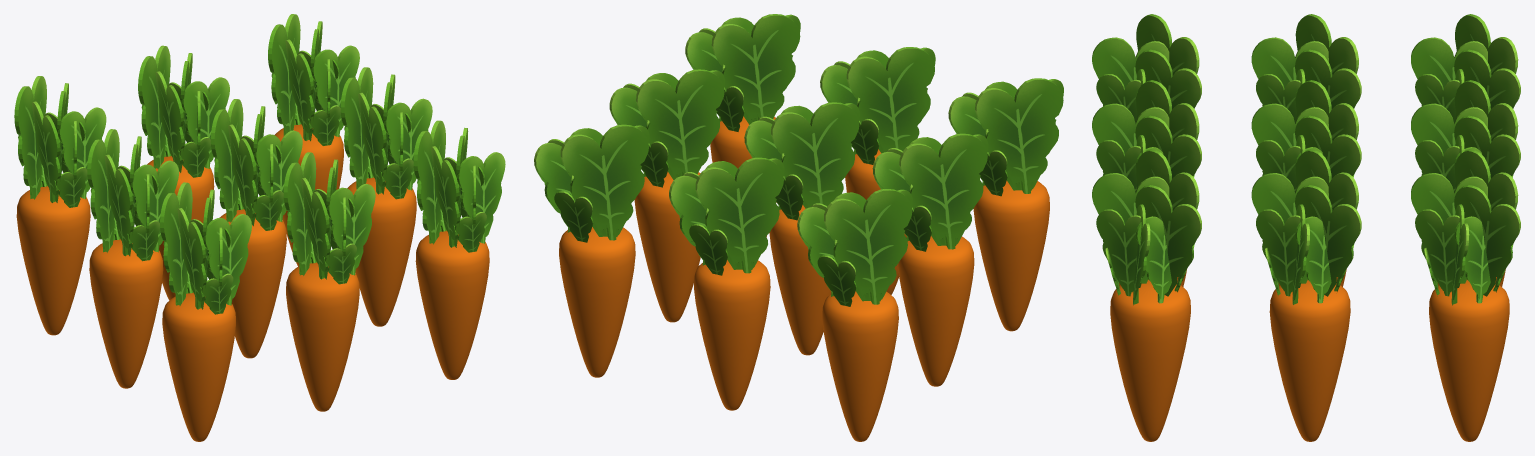
File: Carrot Field.fbx
3 views of the same model, side by side, from view 1: azimuth 30°, elevation 25°; view 2: azimuth 150°, elevation 25°; view 3: azimuth 270°, elevation 25° (orthographic). The views are drawn at different scales.
Visible parts, largest first — view 1: Untitled_Artwork 18.003, Untitled_Artwork 18.007, Untitled_Artwork 18.006, Untitled_Artwork 18.001, Untitled_Artwork 18.002, Untitled_Artwork 18.008, Untitled_Artwork 18.004, Untitled_Artwork 18.009, Untitled_Artwork 18.005; view 2: Untitled_Artwork 18.002, Untitled_Artwork 18.009, Untitled_Artwork 18.005, Untitled_Artwork 18.007, Untitled_Artwork 18.001, Untitled_Artwork 18.008, Untitled_Artwork 18.004, Untitled_Artwork 18.006, Untitled_Artwork 18.003; view 3: Untitled_Artwork 18.008, Untitled_Artwork 18.006, Untitled_Artwork 18.009, Untitled_Artwork 18.004, Untitled_Artwork 18.003, Untitled_Artwork 18.005, Untitled_Artwork 18.007, Untitled_Artwork 18.001, Untitled_Artwork 18.002.
Boxes of the visible parts, left/top/right/bottom form: Untitled_Artwork 18.003: left=283, top=152, right=375, bottom=411; Untitled_Artwork 18.007: left=160, top=182, right=251, bottom=441; Untitled_Artwork 18.006: left=413, top=120, right=505, bottom=379; Untitled_Artwork 18.001: left=87, top=129, right=178, bottom=388; Untitled_Artwork 18.002: left=14, top=76, right=106, bottom=335; Untitled_Artwork 18.008: left=340, top=67, right=432, bottom=326; Untitled_Artwork 18.004: left=210, top=99, right=302, bottom=358; Untitled_Artwork 18.009: left=268, top=14, right=359, bottom=266; Untitled_Artwork 18.005: left=138, top=45, right=229, bottom=300; Untitled_Artwork 18.002: left=797, top=189, right=912, bottom=441; Untitled_Artwork 18.009: left=534, top=124, right=649, bottom=377; Untitled_Artwork 18.005: left=669, top=157, right=784, bottom=410; Untitled_Artwork 18.007: left=948, top=78, right=1063, bottom=331; Untitled_Artwork 18.001: left=872, top=133, right=988, bottom=386; Untitled_Artwork 18.008: left=609, top=69, right=724, bottom=322; Untitled_Artwork 18.004: left=744, top=102, right=859, bottom=355; Untitled_Artwork 18.006: left=685, top=14, right=800, bottom=237; Untitled_Artwork 18.003: left=820, top=47, right=935, bottom=294; Untitled_Artwork 18.008: left=1251, top=149, right=1361, bottom=441; Untitled_Artwork 18.006: left=1092, top=149, right=1201, bottom=441; Untitled_Artwork 18.009: left=1411, top=149, right=1520, bottom=441; Untitled_Artwork 18.004: left=1251, top=80, right=1361, bottom=286; Untitled_Artwork 18.003: left=1092, top=80, right=1201, bottom=286; Untitled_Artwork 18.005: left=1411, top=80, right=1520, bottom=286; Untitled_Artwork 18.007: left=1092, top=14, right=1201, bottom=122; Untitled_Artwork 18.001: left=1251, top=14, right=1361, bottom=122; Untitled_Artwork 18.002: left=1411, top=14, right=1520, bottom=122.
Size of the model in its own units: 415 by 284 by 403.
2 materials, 1 textured.
